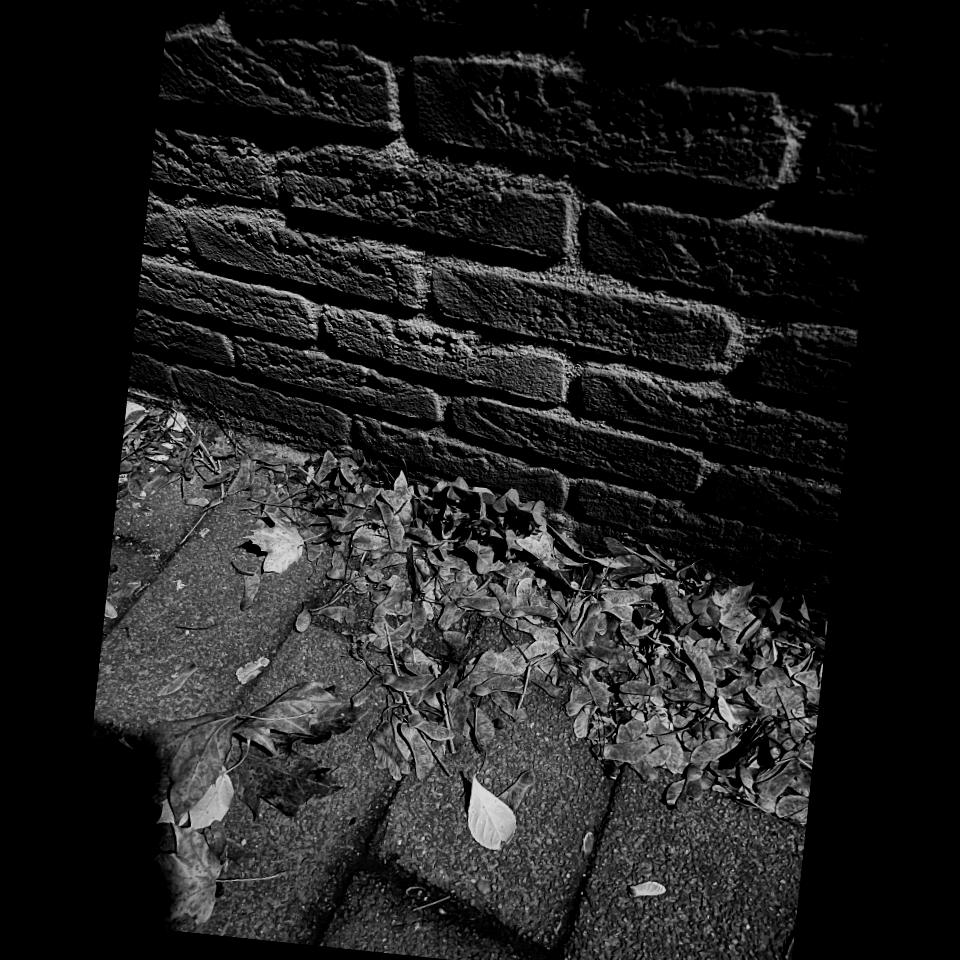weed: (419, 477, 546, 573), (752, 596, 783, 627), (691, 594, 720, 627), (636, 605, 662, 628)
